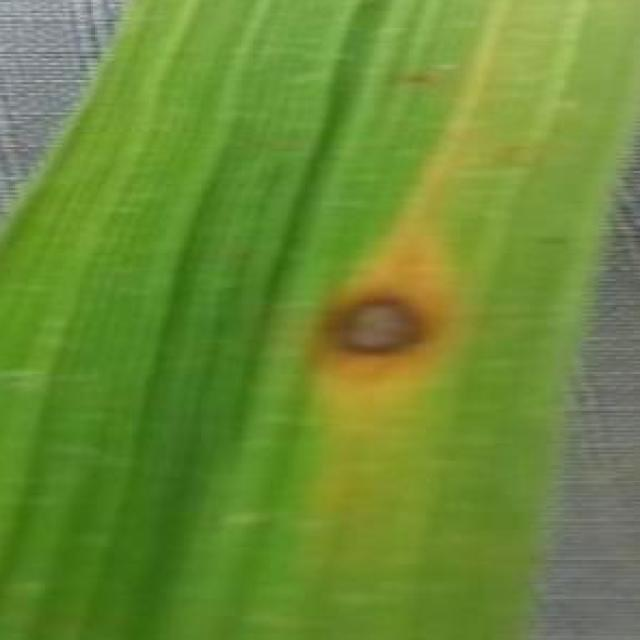Brown_Spot: (276, 247, 474, 396), (376, 52, 436, 100), (524, 218, 578, 260), (484, 124, 534, 164)
